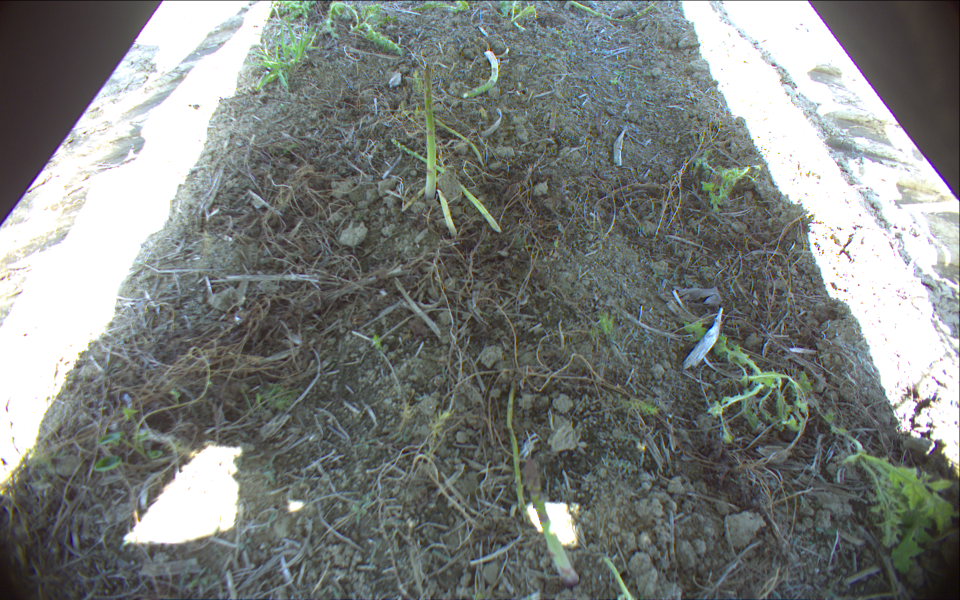aspa: (391, 136, 500, 233), (521, 457, 576, 585), (434, 119, 486, 167), (506, 380, 523, 519), (423, 62, 438, 200), (568, 1, 658, 24), (462, 49, 500, 99), (603, 558, 634, 600), (438, 189, 458, 237)
